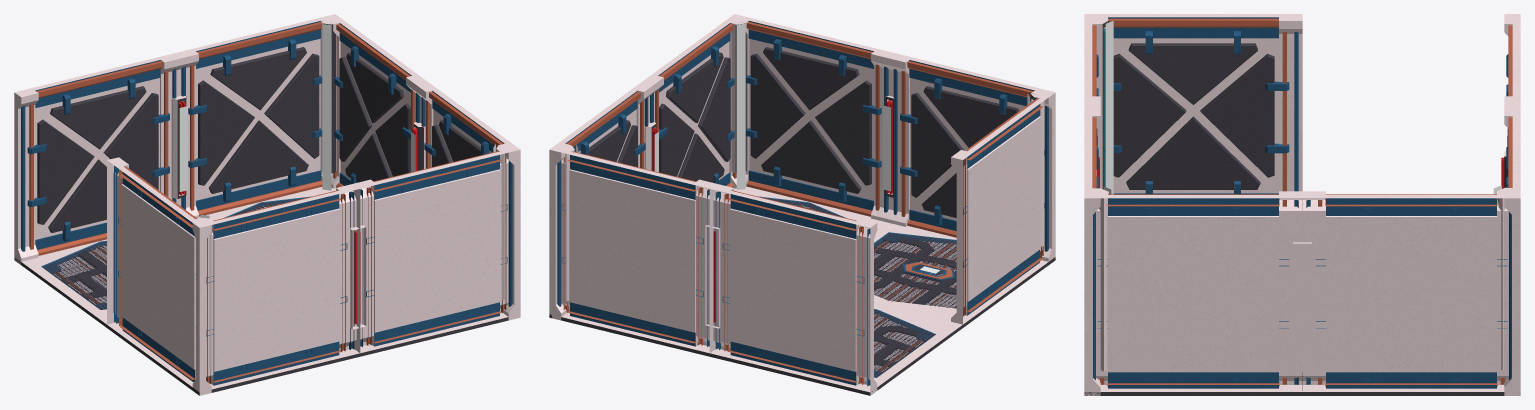
File: Room1.fbx
3 renders of one model, left to right at view 1: azimuth 30°, elevation 25°; view 2: azimuth 150°, elevation 25°; view 3: azimuth 270°, elevation 25°, orthographic. The views are drawn at different scales.
Parts seen in each view (by area): view 1: MeshBaker__30_00___30_00___60_00__mesh_mesh, AreaLight__5_, AreaLight__2_; view 2: MeshBaker__30_00___30_00___60_00__mesh_mesh, AreaLight__19_, AreaLight__20_, AreaLight; view 3: MeshBaker__30_00___30_00___60_00__mesh_mesh, AreaLight__6_.
Boxes of the visible parts, left/top/right/bottom form: MeshBaker__30_00___30_00___60_00__mesh_mesh: left=14, top=14, right=520, bottom=395; AreaLight__5_: left=322, top=24, right=331, bottom=190; AreaLight__2_: left=179, top=106, right=187, bottom=191; MeshBaker__30_00___30_00___60_00__mesh_mesh: left=549, top=14, right=1055, bottom=395; AreaLight__19_: left=736, top=24, right=745, bottom=189; AreaLight__20_: left=736, top=24, right=745, bottom=189; AreaLight: left=883, top=105, right=890, bottom=191; MeshBaker__30_00___30_00___60_00__mesh_mesh: left=1084, top=14, right=1520, bottom=395; AreaLight__6_: left=1106, top=21, right=1113, bottom=194.
Bounding box in the file's own units: 800 × 402 × 800.
